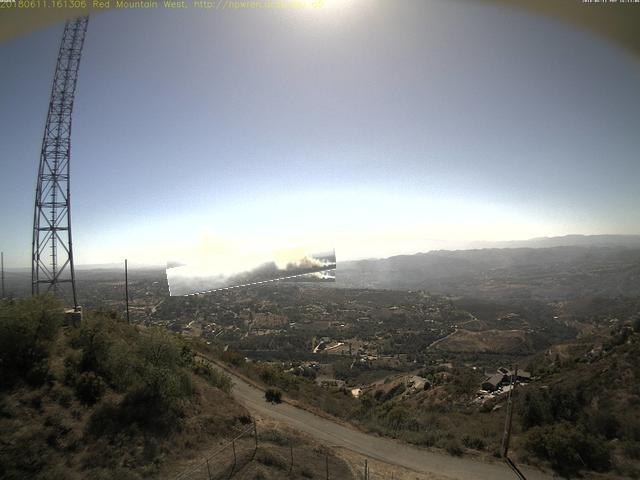smoke: (168, 248, 338, 291)
